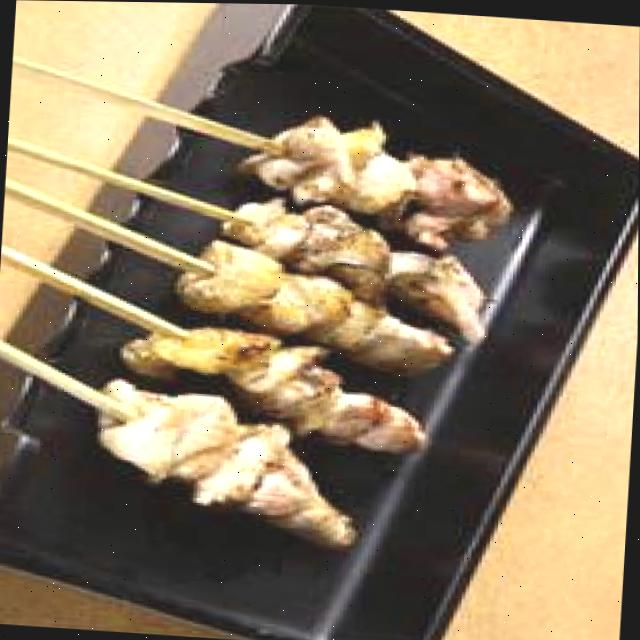烧串烤肉: (0, 47, 518, 579)
